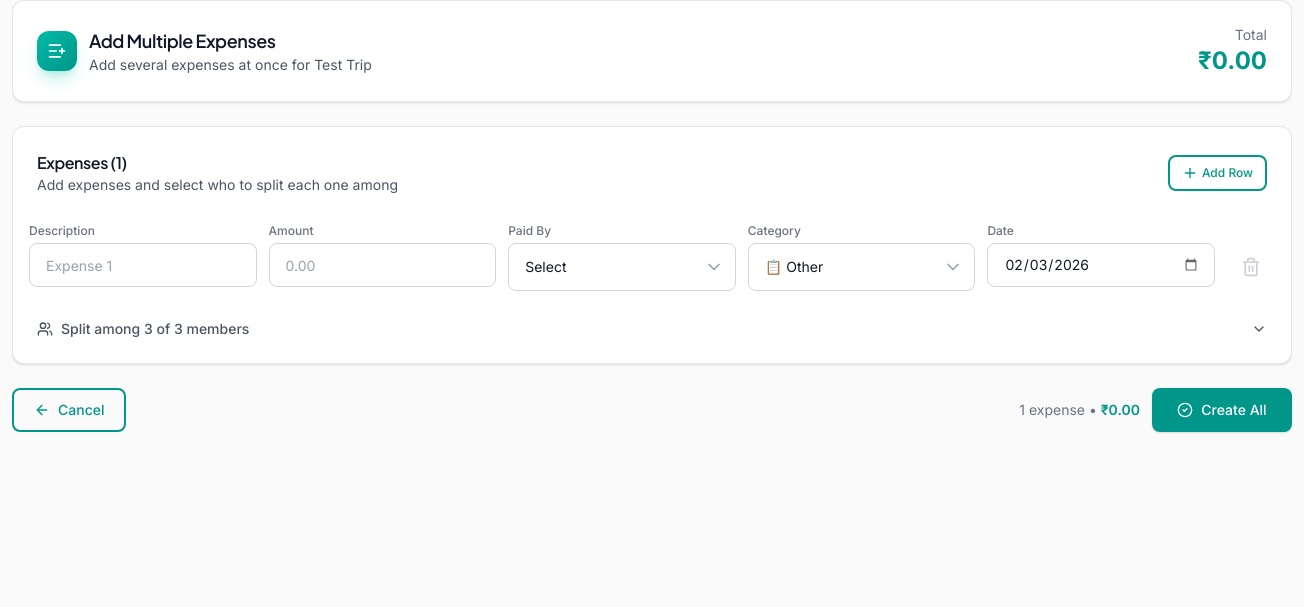
Test: BulkExpenseForm › removes expense row when delete is clicked
The image size is (1304, 607).
// Add a second row first
Click the button "Add Row" at (1217, 173), box top-left (1168, 155), bottom-right (1267, 191)
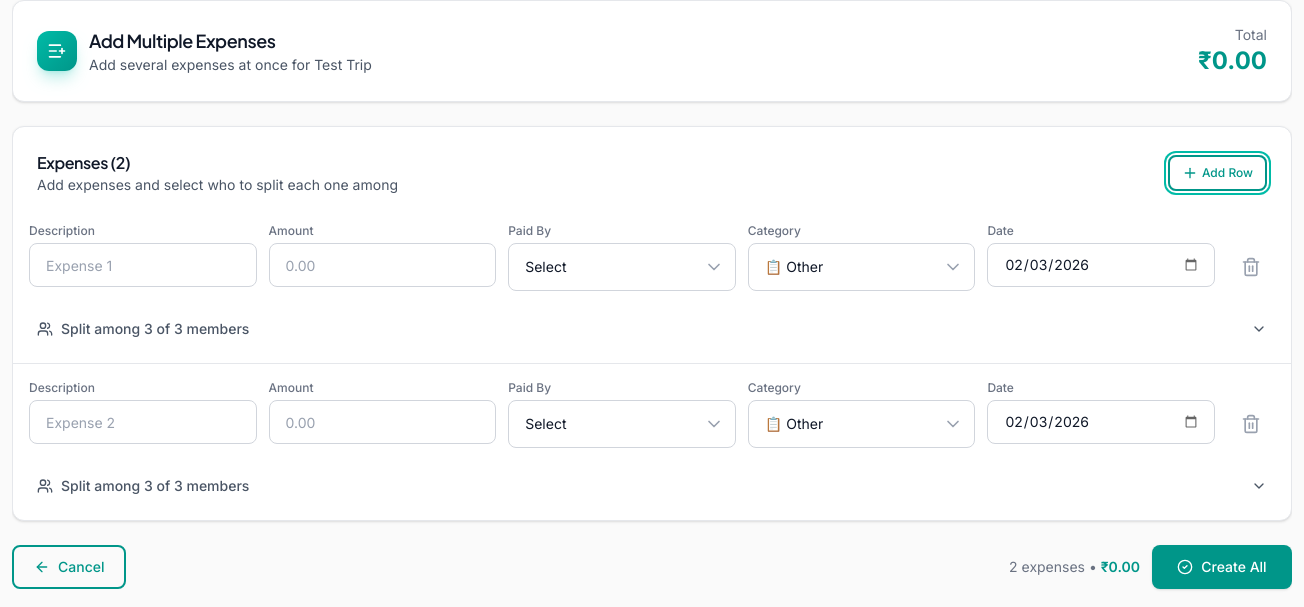
Now the heading "Expenses (2)" is shown, box top-left (37, 152), bottom-right (130, 173)
Click the 2nd button at (1251, 267), box top-left (1227, 243), bottom-right (1275, 291)
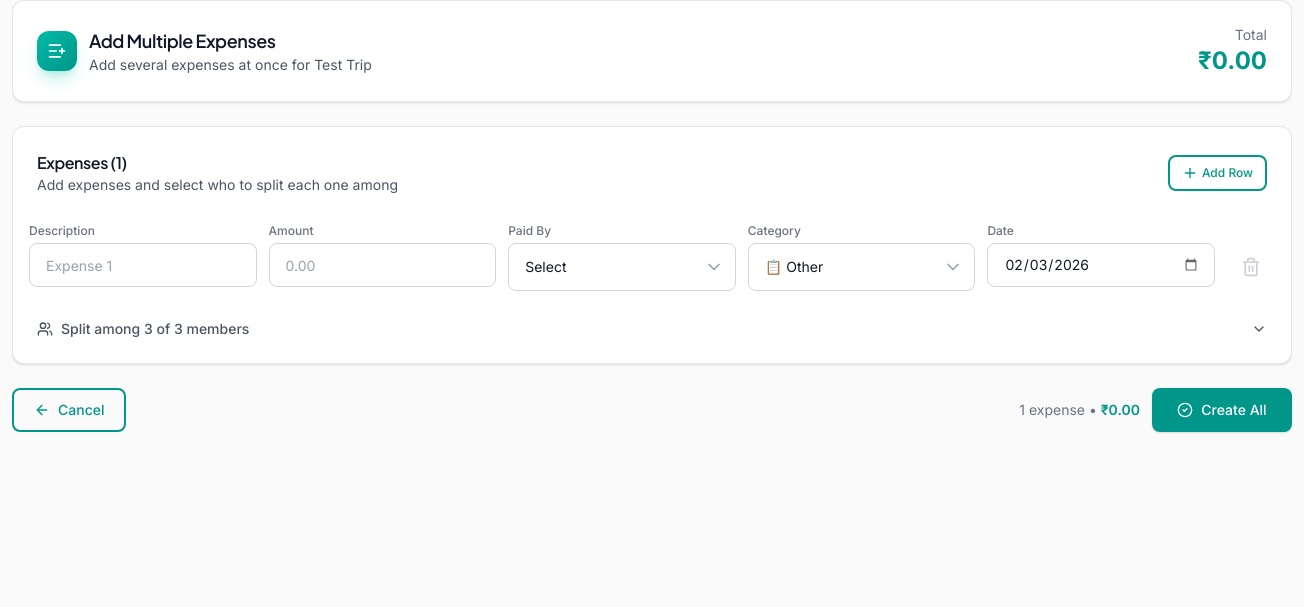
Now the heading "Expenses (1)" is shown, box top-left (37, 152), bottom-right (127, 173)
